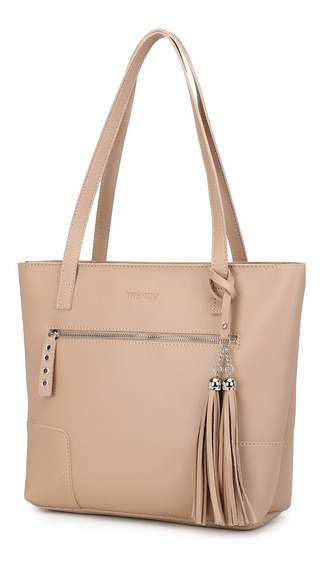cartera: (11, 26, 308, 534)
